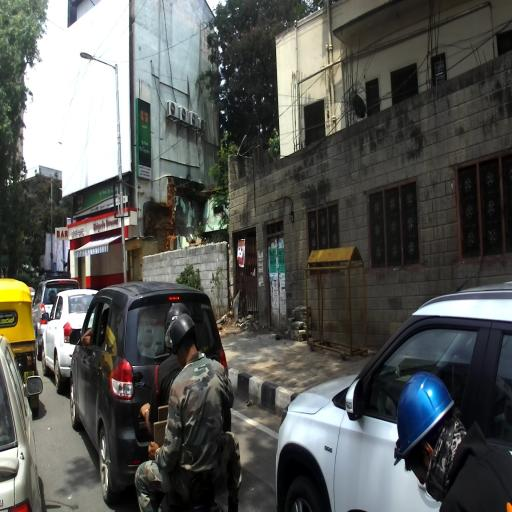street_light_0: (80, 52, 118, 71)
